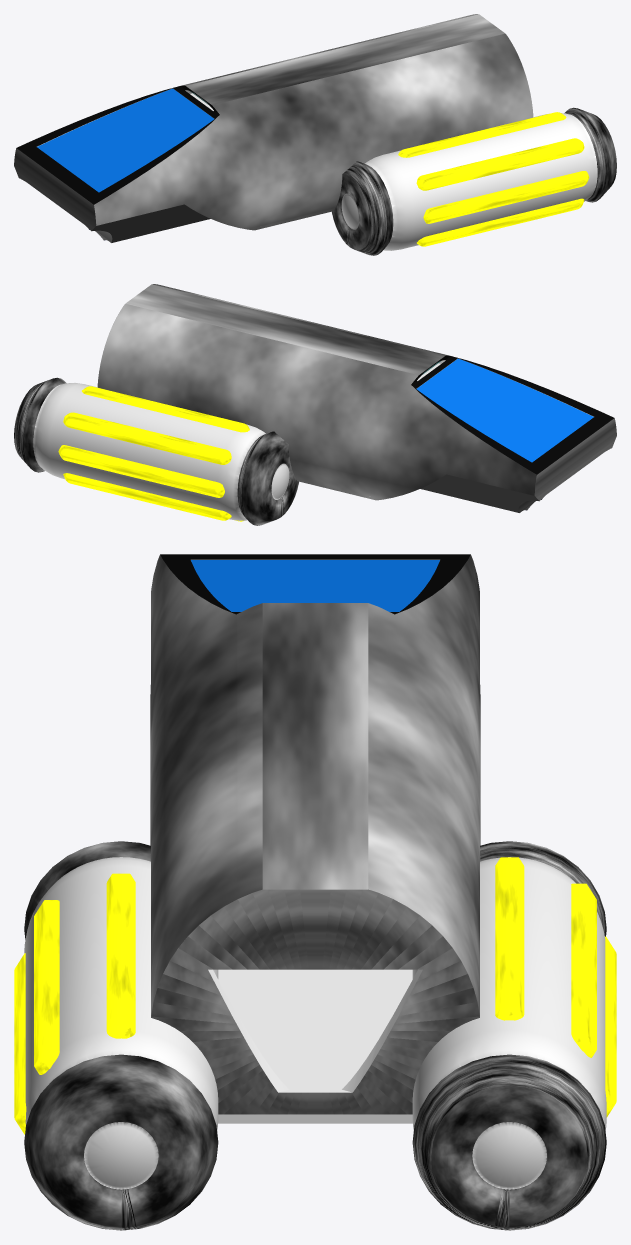
File: comp.gltf
3 renders of one model, top to bottom at view 1: azimuth 30°, elevation 25°; view 2: azimuth 150°, elevation 25°; view 3: azimuth 270°, elevation 25°, orthographic. The views are drawn at different scales.
Visible parts, largest first — view 1: CSGBakedMeshInstance3D, LNacel2, ProtoCSGMesh3D122, ProtoCSGMesh3D82, ProtoCSGMesh3D92, ProtoCSGMesh3D112; view 2: CSGBakedMeshInstance3D, RNacel2, ProtoCSGMesh3D124, ProtoCSGMesh3D84, ProtoCSGMesh3D94, ProtoCSGMesh3D114; view 3: CSGBakedMeshInstance3D, RNacel2, LNacel2, ProtoCSGMesh3D112, ProtoCSGMesh3D114, ProtoCSGMesh3D122, ProtoCSGMesh3D124, ProtoCSGMesh3D82, ProtoCSGMesh3D84.
Part boxes in pixels (box(x1,y1,x2,y2)): CSGBakedMeshInstance3D: box(14, 14, 533, 242); LNacel2: box(332, 107, 616, 255); ProtoCSGMesh3D122: box(416, 138, 584, 190); ProtoCSGMesh3D82: box(423, 171, 589, 223); ProtoCSGMesh3D92: box(417, 198, 584, 246); ProtoCSGMesh3D112: box(398, 112, 566, 157); CSGBakedMeshInstance3D: box(97, 284, 616, 512); RNacel2: box(14, 377, 298, 525); ProtoCSGMesh3D124: box(63, 412, 231, 464); ProtoCSGMesh3D84: box(58, 445, 224, 497); ProtoCSGMesh3D94: box(63, 473, 231, 520); ProtoCSGMesh3D114: box(82, 386, 249, 432); CSGBakedMeshInstance3D: box(150, 554, 480, 1123); RNacel2: box(412, 841, 606, 1230); LNacel2: box(24, 841, 218, 1230); ProtoCSGMesh3D112: box(106, 873, 135, 1038); ProtoCSGMesh3D114: box(495, 857, 524, 1020); ProtoCSGMesh3D122: box(34, 900, 59, 1074); ProtoCSGMesh3D124: box(571, 883, 596, 1057); ProtoCSGMesh3D82: box(14, 953, 26, 1134); ProtoCSGMesh3D84: box(605, 936, 616, 1117).
Size of the model in its own units: 59 by 17.41 by 31.
Materials: 13 (6 with a texture image).
